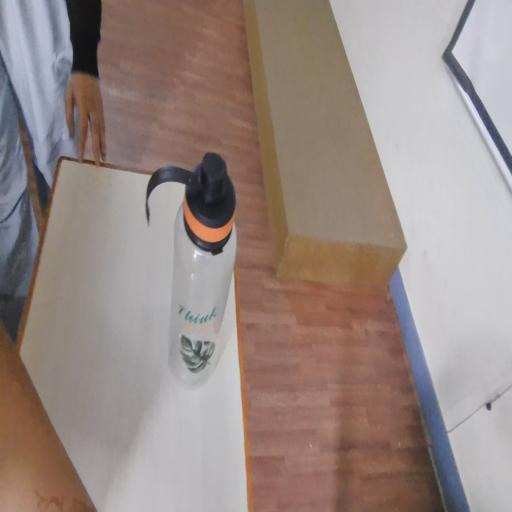Bottle: (158, 147, 247, 413)
